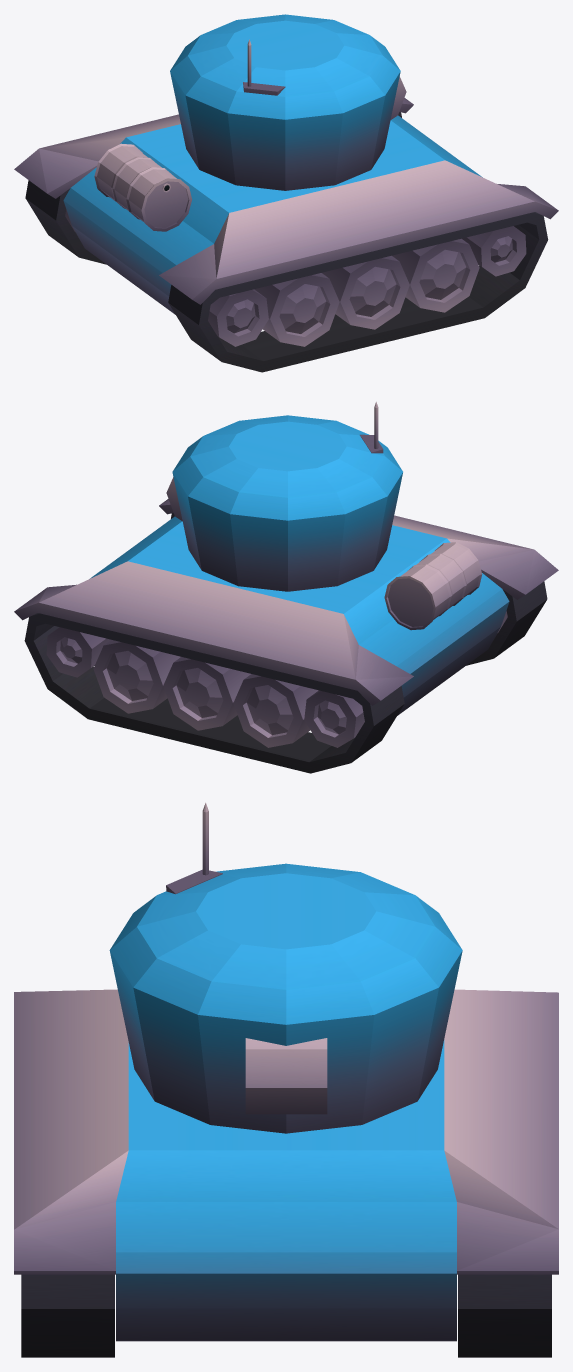
File: Tank_Roller.fbx
The picture shows the model from 3 angles, top to bottom: view 1: azimuth 30°, elevation 25°; view 2: azimuth 150°, elevation 25°; view 3: azimuth 270°, elevation 25°; orthographic projection. The views are drawn at different scales.
Parts seen in each view (by area): view 1: Body Roller, Head Roller; view 2: Body Roller, Head Roller; view 3: Body Roller, Head Roller.
Boxes of the visible parts, <box> form: Body Roller: <box>14,98,558,372</box>; Head Roller: <box>170,14,406,190</box>; Body Roller: <box>14,499,558,773</box>; Head Roller: <box>166,402,402,591</box>; Body Roller: <box>14,989,558,1357</box>; Head Roller: <box>109,802,462,1133</box>.
Bounding box in the file's own units: 383 × 277 × 322.
